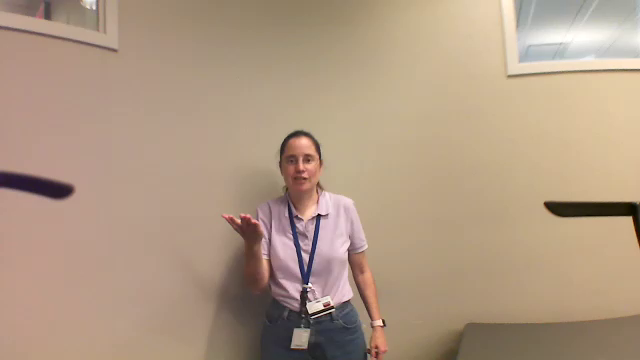land: (198, 198, 274, 254)
